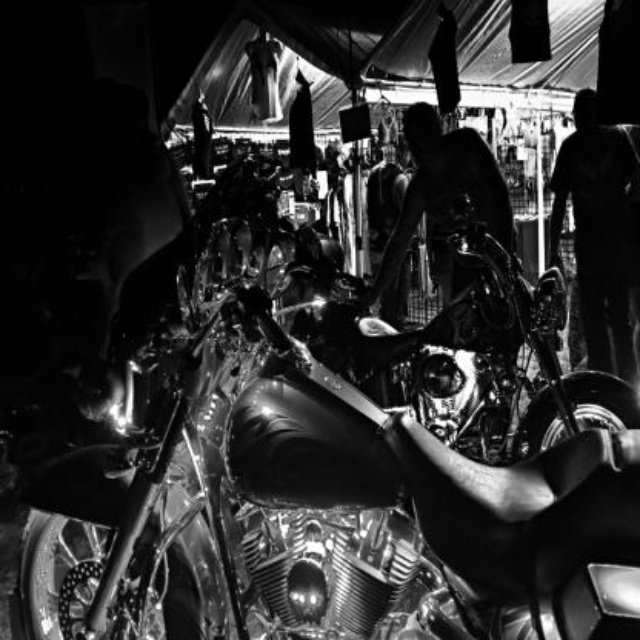Motorcycle: (0, 113, 629, 639), (337, 192, 638, 462)
